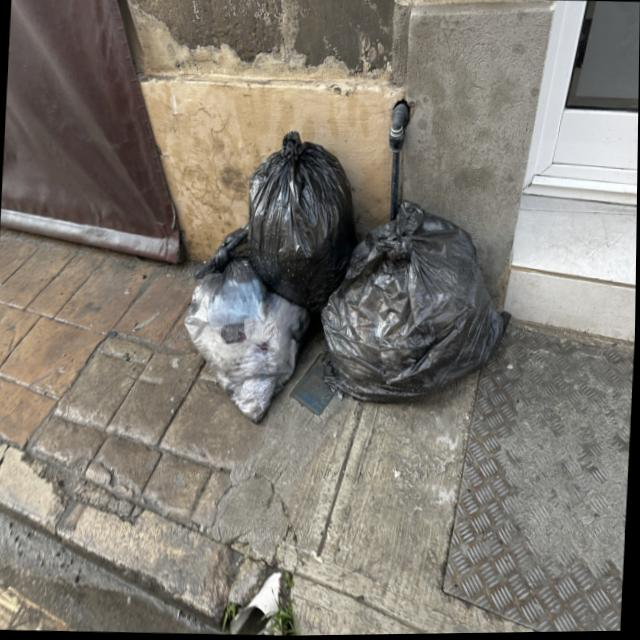Mixed Waste -Black Bags-: (185, 131, 512, 426)
